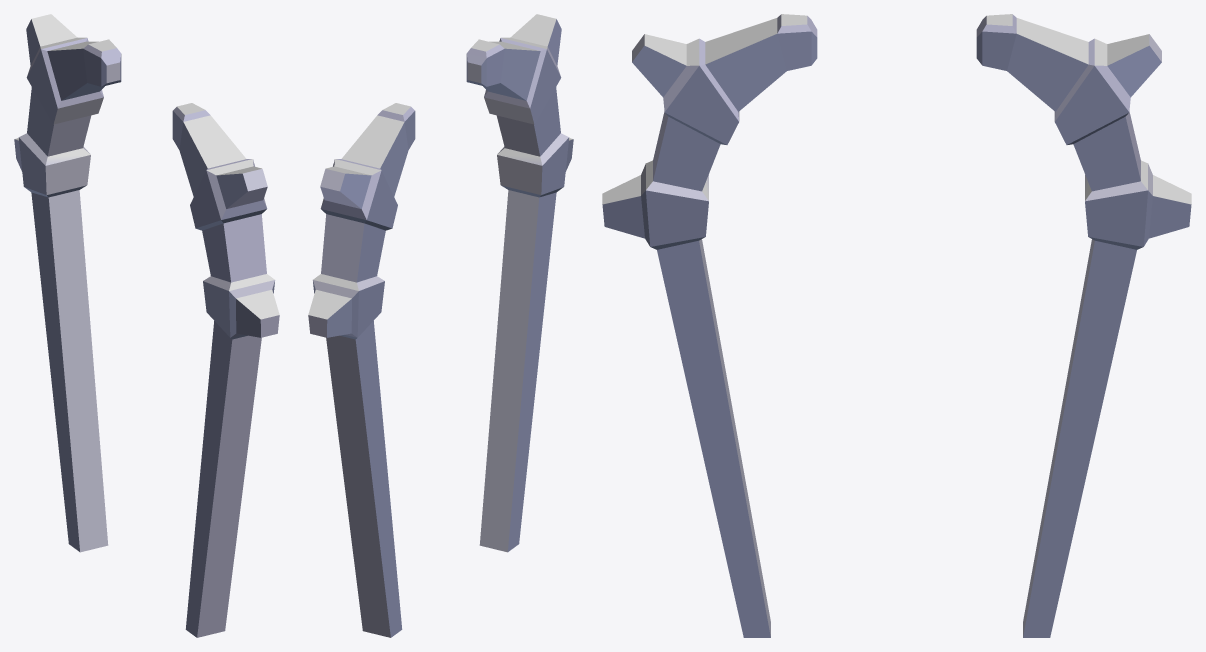
Rendered from Prop_Gate_Choice_01.fbx.
The picture shows the model from 3 angles, left to right: view 1: azimuth 30°, elevation 25°; view 2: azimuth 150°, elevation 25°; view 3: azimuth 270°, elevation 25°; orthographic projection. The views are drawn at different scales.
Visible parts, largest first — view 1: Holo_Gate; view 2: Holo_Gate; view 3: Holo_Gate.
Part boxes in pixels (x1=…): Holo_Gate: x1=14, y1=14, x2=279, y2=637; Holo_Gate: x1=308, y1=14, x2=573, y2=637; Holo_Gate: x1=602, y1=14, x2=1191, y2=637.
Size of the model in its own units: 100 by 1051 by 920.
